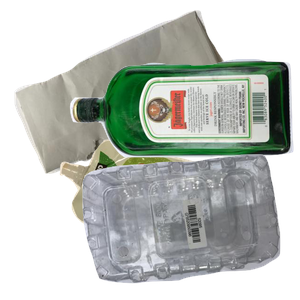glass: (67, 56, 300, 206)
paper: (12, 10, 240, 176)
plastic: (80, 152, 300, 300)
trash: (57, 137, 257, 300)
